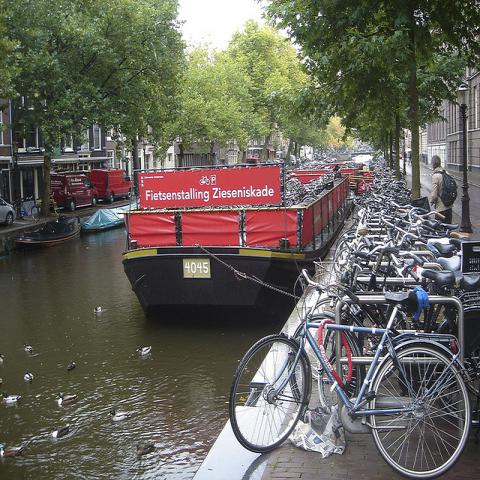car: (0, 195, 17, 228)
truck: (48, 171, 99, 212), (89, 169, 133, 205)
